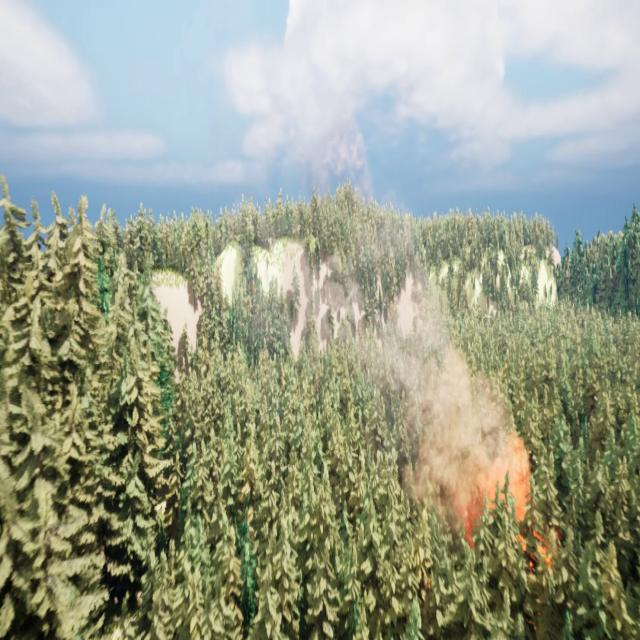fire: (465, 456, 539, 544)
smoke: (362, 260, 546, 558)
